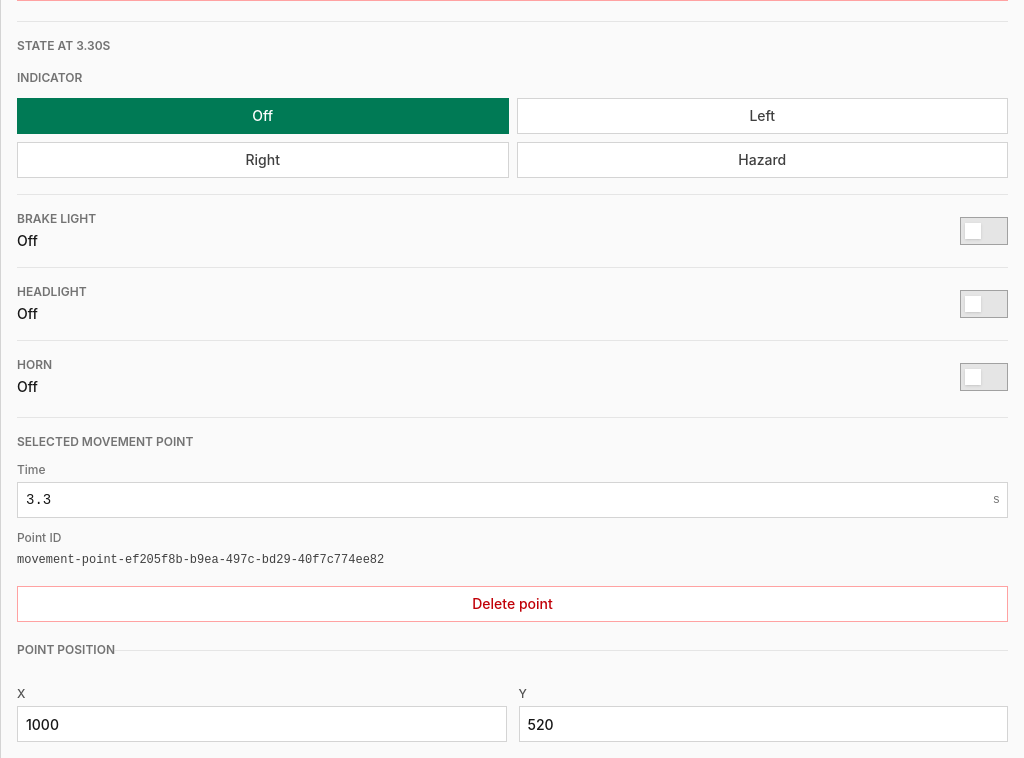
Test: F7.4 Movement Point delete confirmation › treats a stale locked target as a safe no-op
This screenshot has width=1024, height=758.
(page scrolled)
Click the button "Delete point" at (512, 604), box [17,586,1008,622]
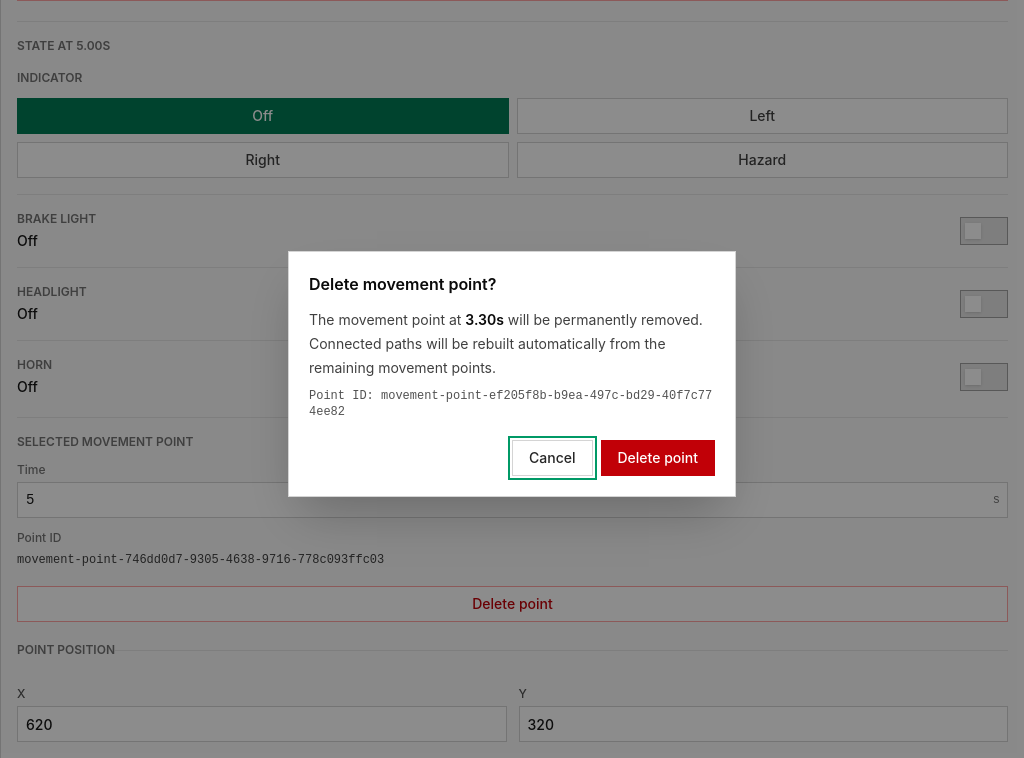
Result: the button "Delete point" is shown
Click the button "Delete point" at (658, 458), box [600,440,715,476]
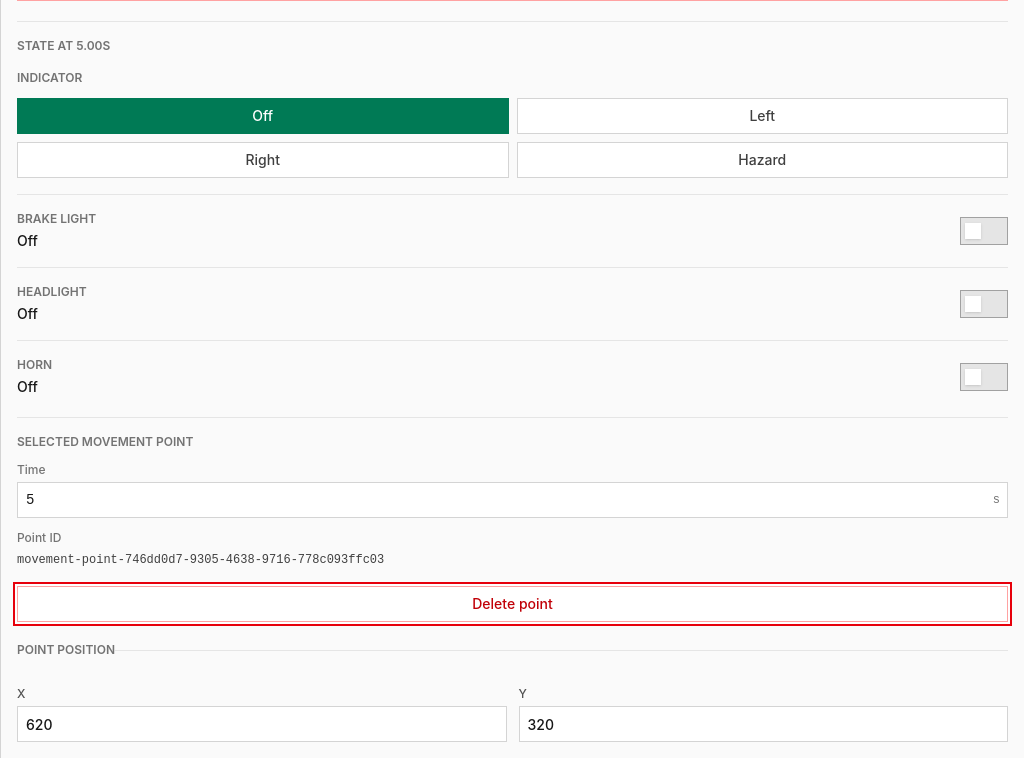
Result: the dialog is gone
